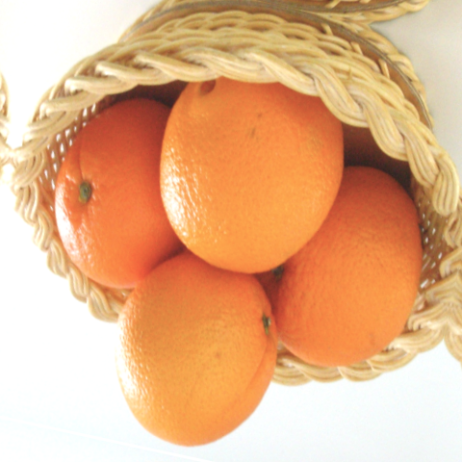orange: (122, 30, 370, 312), (244, 155, 459, 392), (93, 255, 302, 462), (21, 109, 214, 311)
